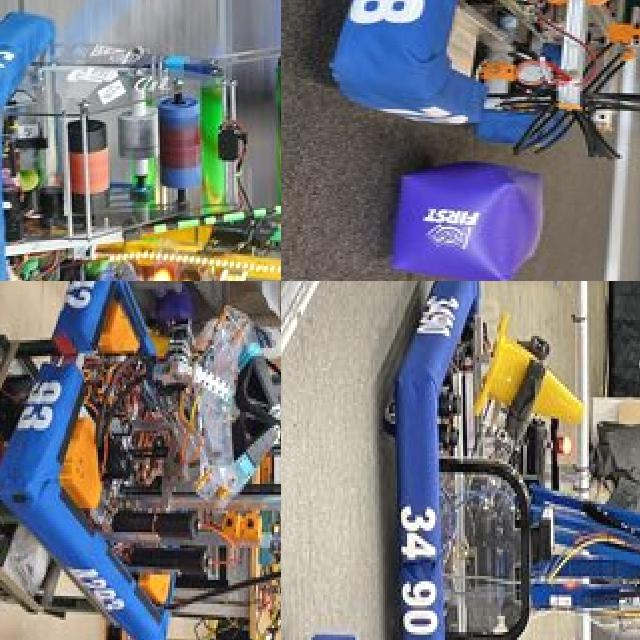FRC-Robots: (0, 281, 281, 640), (380, 281, 640, 640), (0, 0, 281, 281), (333, 0, 640, 158)
